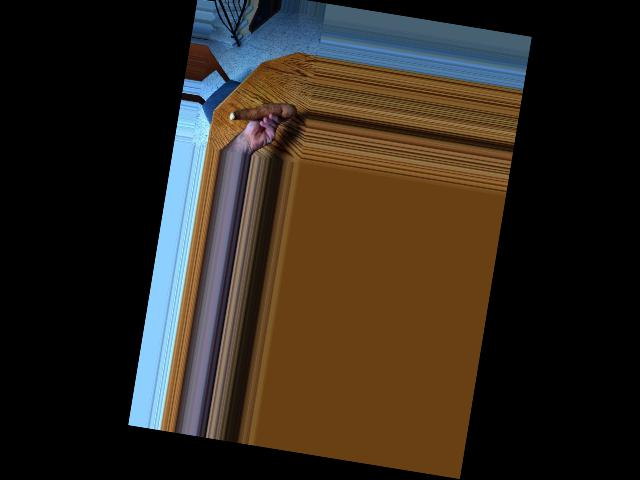sweet_potato: (227, 90, 295, 131)
